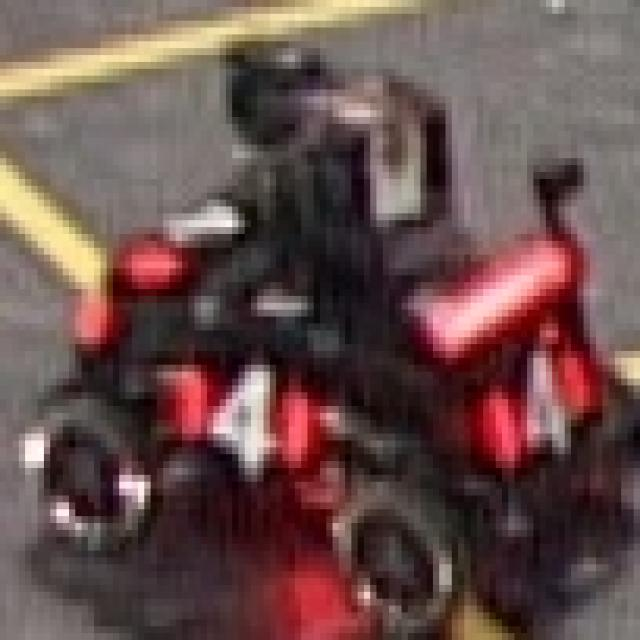R4: (132, 358, 326, 482), (464, 330, 590, 468), (119, 172, 251, 289)
